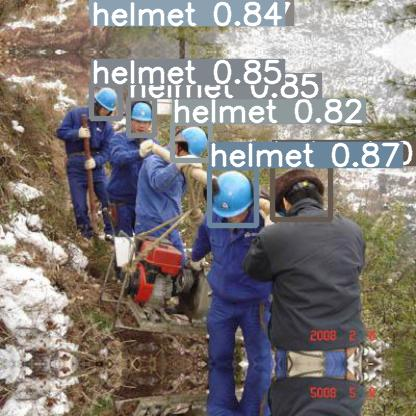head: (130, 0, 155, 6)
helmet: (272, 165, 330, 219), (209, 167, 256, 225), (172, 123, 210, 160), (91, 84, 120, 118), (128, 98, 154, 135), (91, 0, 120, 18)
